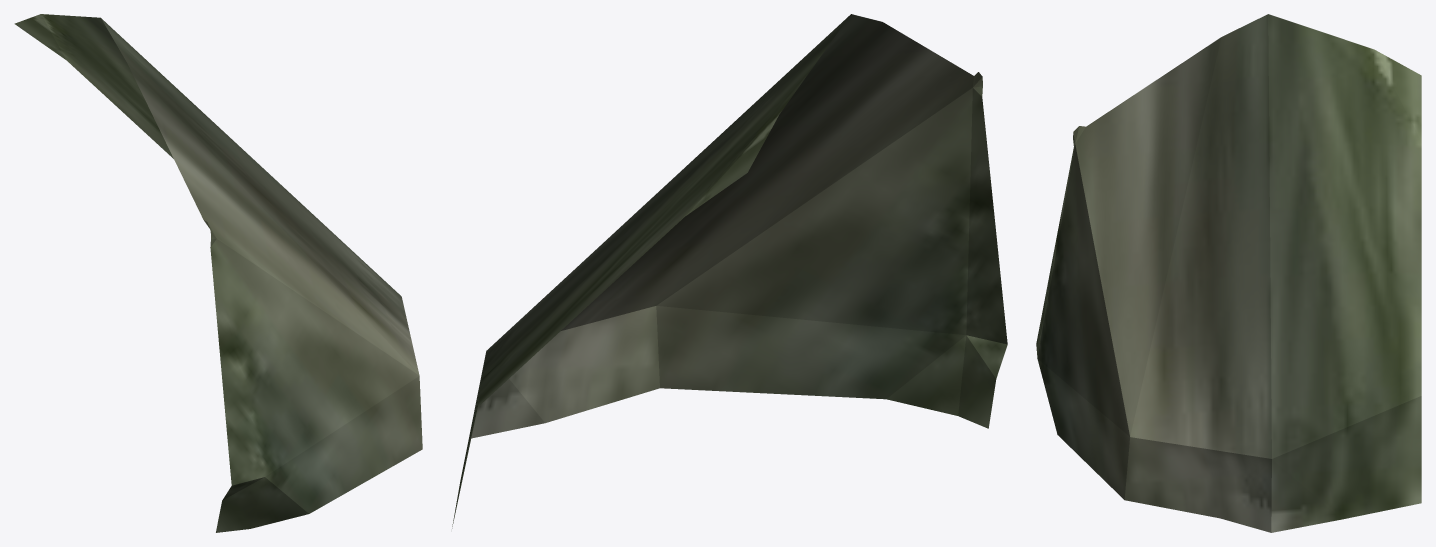
3 renders of one model, left to right at view 1: azimuth 30°, elevation 25°; view 2: azimuth 150°, elevation 25°; view 3: azimuth 270°, elevation 25°, orthographic. The views are drawn at different scales.
Size of the model in its own units: 0.8694 by 1.13 by 1.03.
1 material, 1 textured.
